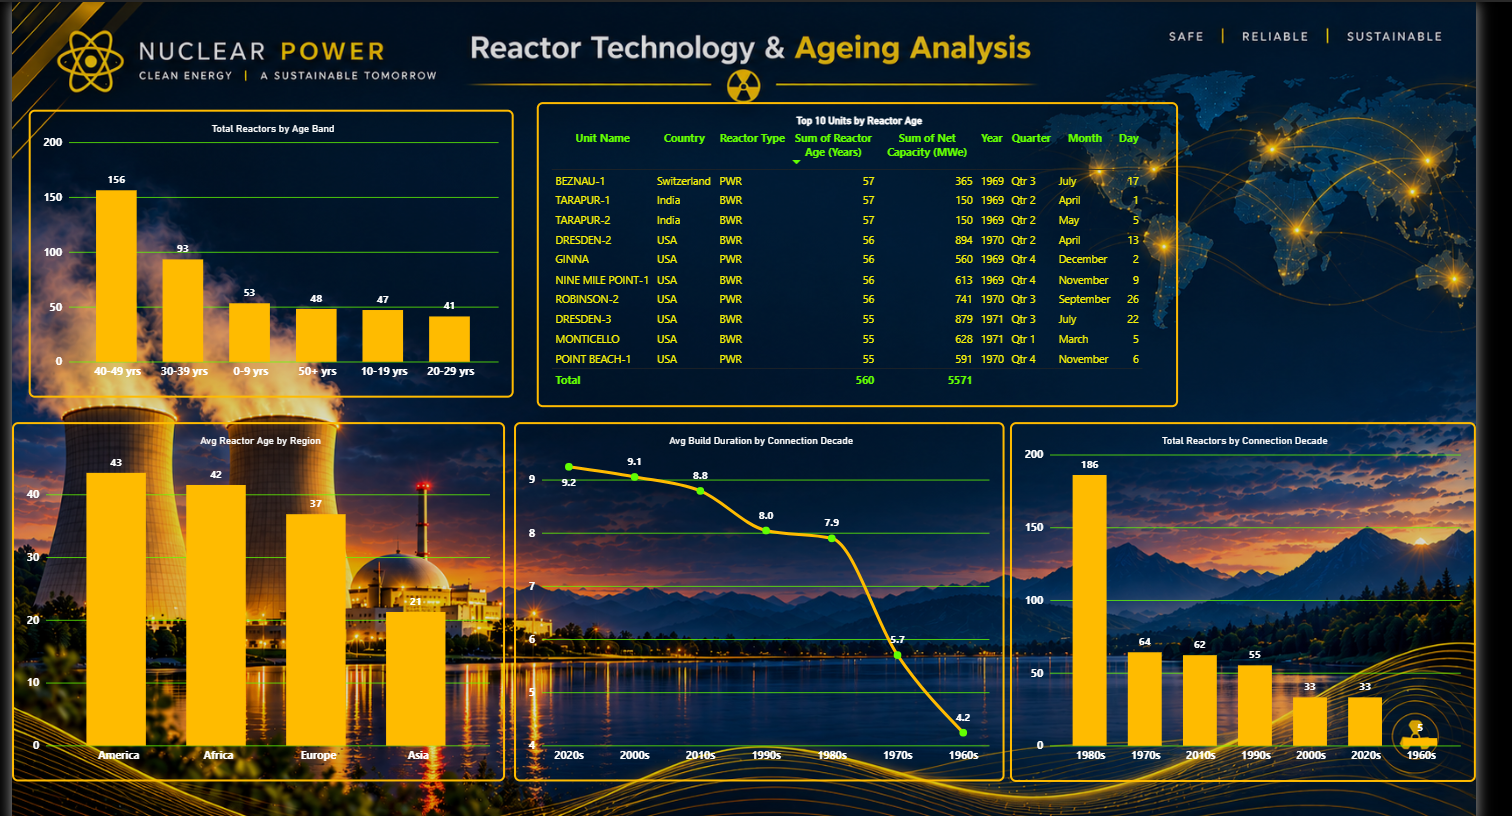

Layout of this report page (visuals, bound fields, positions):
{"tool":"powerbi","page":{"name":"Technology and Ageing","canvas":[1920,1080],"ordinal":1},"visuals":[{"type":"clusteredColumnChart","fields":{"Category":["Reactors.Age Band"],"Y":["Reactors.Total Reactors"]},"box":[22,142,636,378],"z":0},{"type":"clusteredColumnChart","fields":{"Category":["Reactors.Connection Decade"],"Y":["Reactors.Total Reactors"]},"box":[1309.1,551.8,610.9,471.8],"z":1},{"type":"lineChart","fields":{"Category":["Reactors.Connection Decade"],"Y":["Reactors.Avg Build Duration"]},"box":[658.3,551.7,643.3,471.7],"z":2},{"type":"clusteredColumnChart","fields":{"Category":["Reactors.Region "],"Y":["Reactors.Avg Reactor Age"]},"box":[0,551.7,646.7,471.7],"z":3},{"type":"tableEx","title":"Top 10 Units  by  Reactor Age ","fields":{"Values":["Reactors.Unit Name","Reactors.Country ","Reactors.Reactor Type","Sum(Reactors.Reactor Age (Years))","Sum(Reactors.Net Capacity (MWe))","Reactors.Grid Date.Variation.Date Hierarchy.Year","Reactors.Grid Date.Variation.Date Hierarchy.Quarter","Reactors.Grid Date.Variation.Date Hierarchy.Month","Reactors.Grid Date.Variation.Date Hierarchy.Day"]},"box":[688.6,131.4,841,400],"z":4}]}

Visuals, with their boxes in screenshot pixels (x1, y1, x2, y2):
clusteredColumnChart - Reactors.Age Band x Reactors.Total Reactors: bbox=[17, 102, 508, 393]
clusteredColumnChart - Reactors.Connection Decade x Reactors.Total Reactors: bbox=[1010, 418, 1481, 782]
lineChart - Reactors.Connection Decade x Reactors.Avg Build Duration: bbox=[508, 418, 1004, 782]
clusteredColumnChart - Reactors.Region  x Reactors.Avg Reactor Age: bbox=[0, 418, 499, 782]
"Top 10 Units  by  Reactor Age " tableEx: bbox=[531, 94, 1180, 402]
